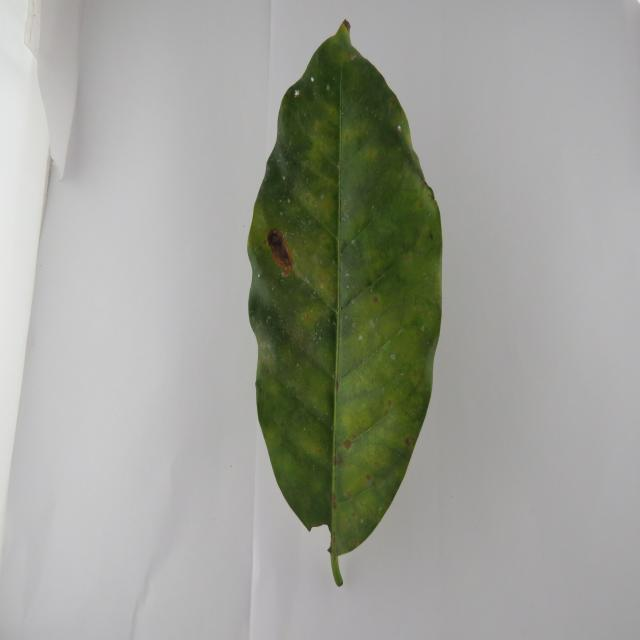DeficienciaNutricional-Magnesio: (248, 20, 442, 585)
